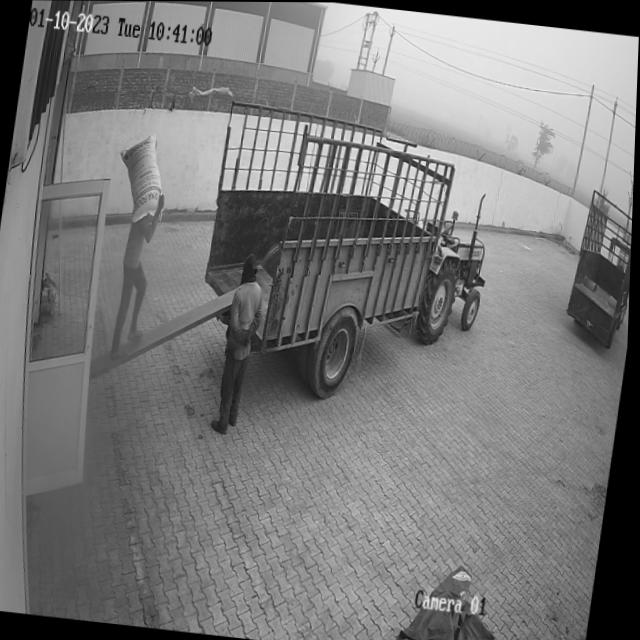sack: (112, 129, 171, 227)
